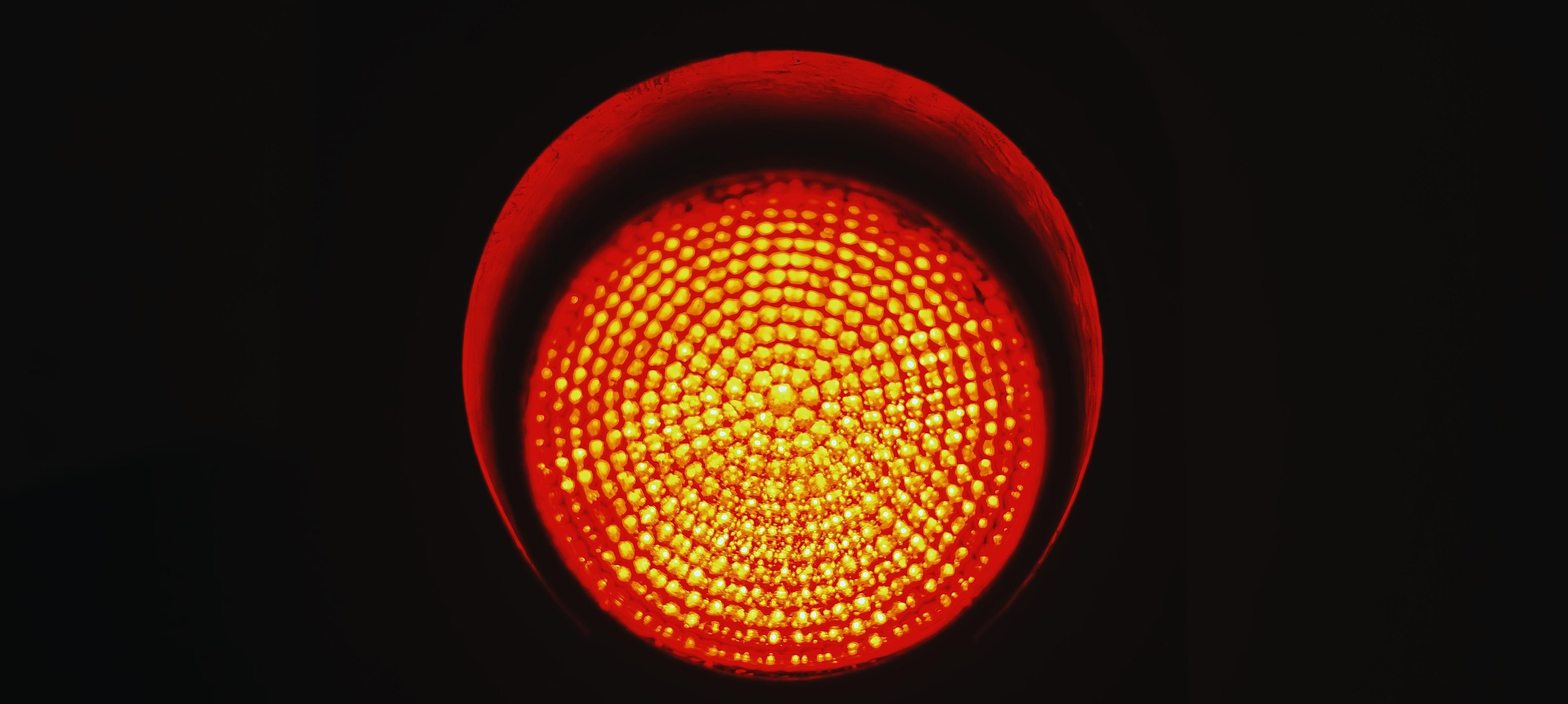red: (398, 3, 1178, 642)
